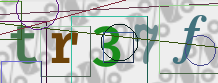3: (92, 25, 121, 68)
7: (133, 22, 160, 65)
f: (170, 13, 208, 64)
r: (49, 29, 79, 66)
t: (9, 23, 39, 65)
